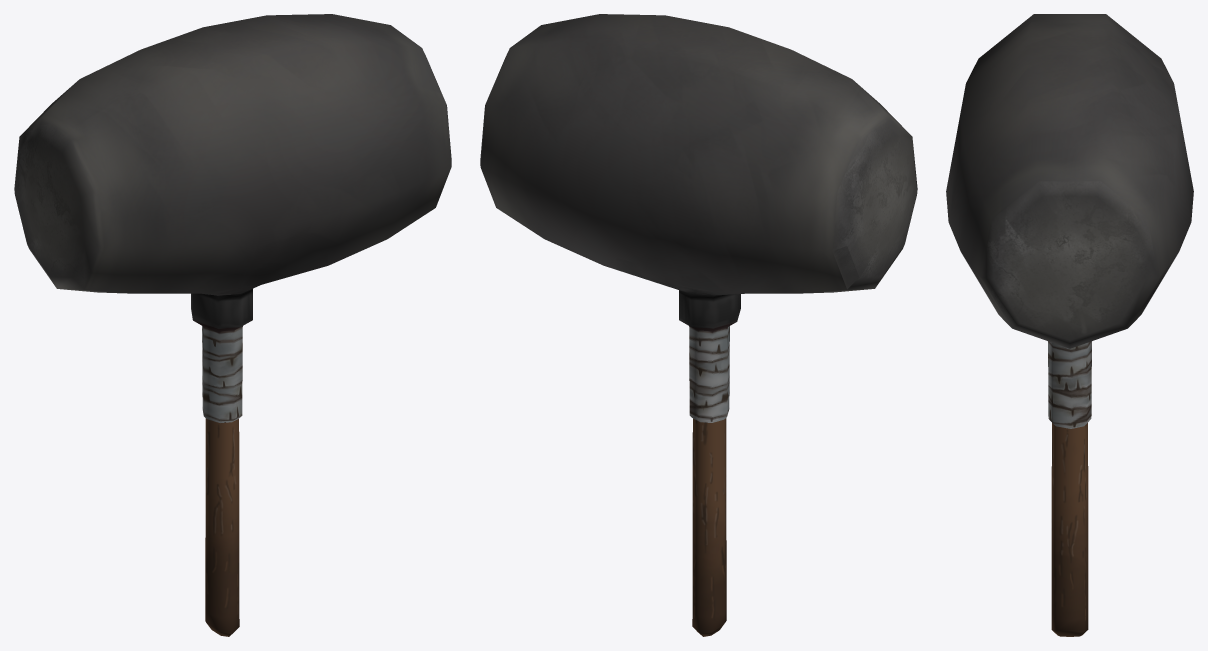
Rendered from SurvivalTools_Hammer.fbx.
The picture shows the model from 3 angles, left to right: view 1: azimuth 30°, elevation 25°; view 2: azimuth 150°, elevation 25°; view 3: azimuth 270°, elevation 25°; orthographic projection.
Visible parts, largest first — view 1: Hammer_MDL; view 2: Hammer_MDL; view 3: Hammer_MDL.
Part boxes in pixels (bbox=[...]): Hammer_MDL: bbox=[14, 14, 451, 636]; Hammer_MDL: bbox=[480, 14, 917, 636]; Hammer_MDL: bbox=[946, 14, 1193, 636].
Bounding box in the file's own units: 13.6 × 20.45 × 7.9.
